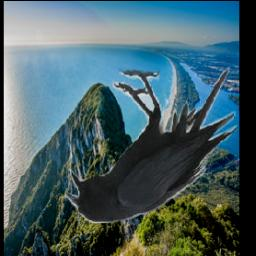Crow: (64, 68, 238, 224)
